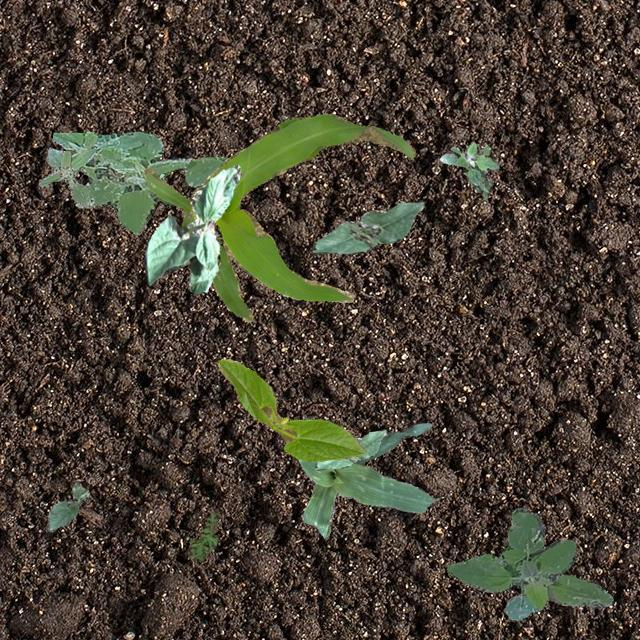crop: (143, 112, 414, 320), (298, 414, 437, 536), (218, 358, 364, 460), (142, 164, 240, 292), (311, 200, 424, 252), (314, 428, 386, 468), (46, 480, 88, 530)
weed: (446, 506, 612, 620), (52, 130, 225, 234), (438, 140, 498, 198), (37, 146, 94, 206), (188, 510, 218, 560)
